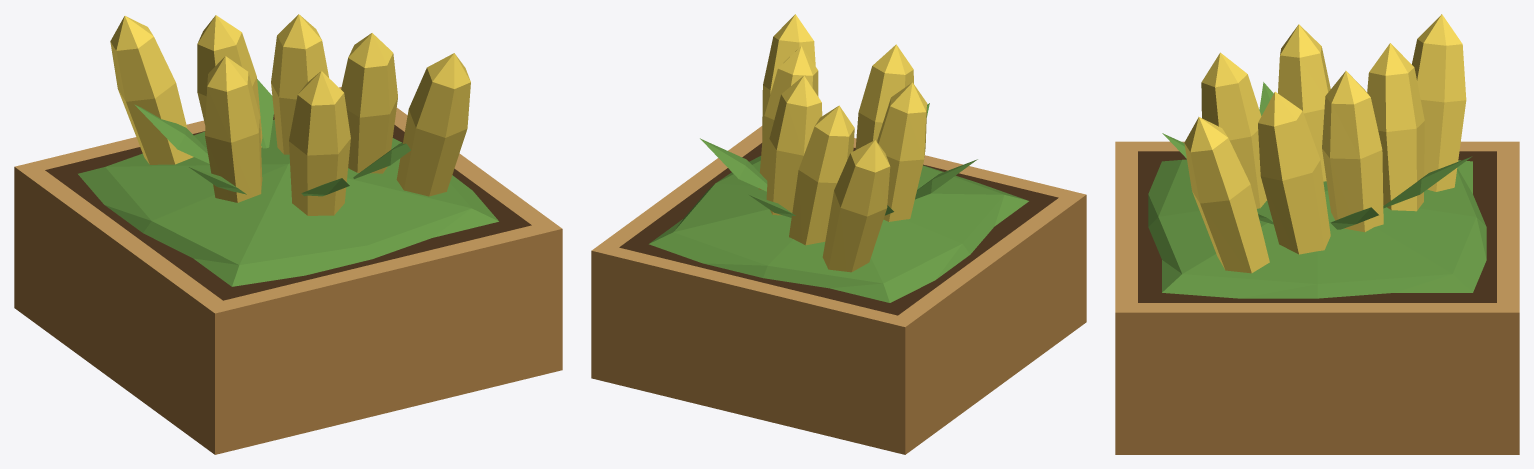
File: item_produce_corn_a.obj
The picture shows the model from 3 angles, left to right: view 1: azimuth 30°, elevation 25°; view 2: azimuth 150°, elevation 25°; view 3: azimuth 270°, elevation 25°; orthographic projection. The views are drawn at different scales.
Bounding box in the file's own units: 0.5724 × 0.4861 × 0.5724.
